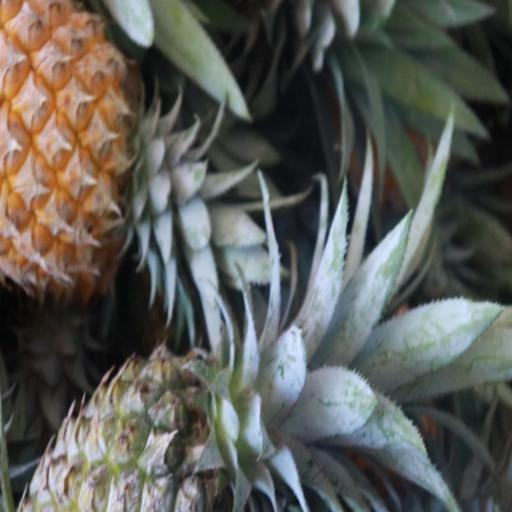------------------------------: (24, 340, 278, 512)
Pineapple - v8 v1: (0, 0, 170, 295)
